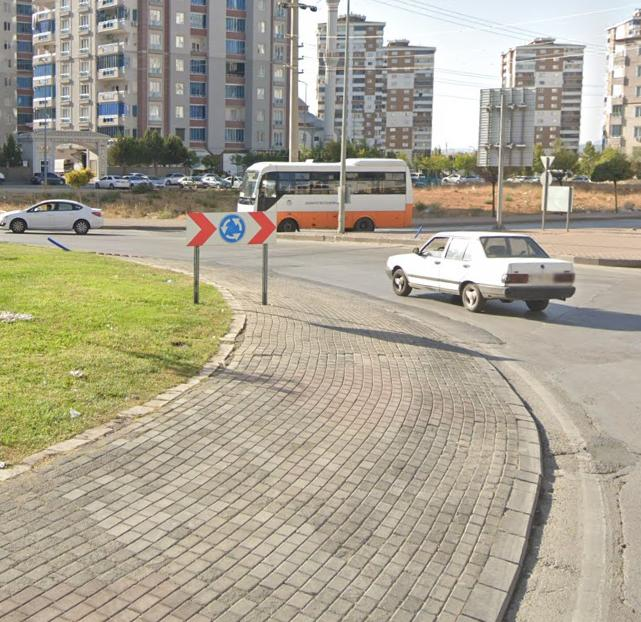crossroads: (218, 213, 248, 243)
